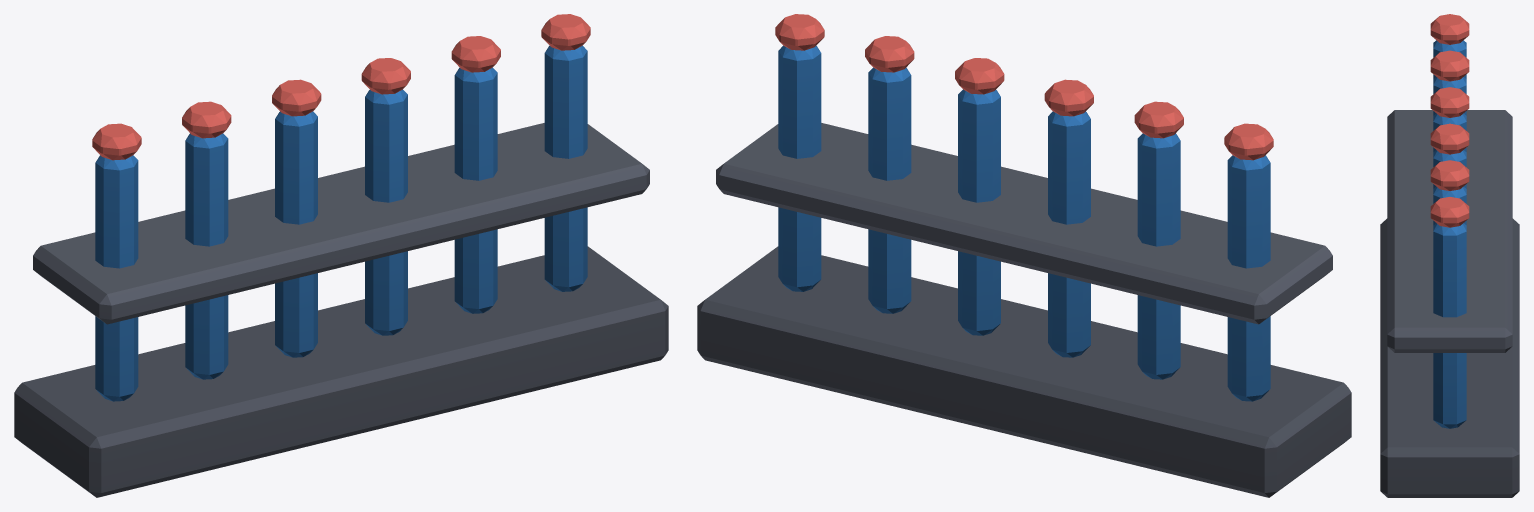
The model's file is test_tube_rack.glb.
3 renders of one model, left to right at view 1: azimuth 30°, elevation 25°; view 2: azimuth 150°, elevation 25°; view 3: azimuth 270°, elevation 25°, orthographic. The views are drawn at different scales.
Visible parts, largest first — view 1: test_tube_rack; view 2: test_tube_rack; view 3: test_tube_rack.
Boxes of the visible parts, box(x1,y1,x2,y2) form: test_tube_rack: box(14, 14, 668, 497); test_tube_rack: box(697, 14, 1351, 497); test_tube_rack: box(1380, 14, 1519, 497).
Size of the model in its own units: 0.4 by 0.215 by 0.1.
Materials: 1 (1 with a texture image).
